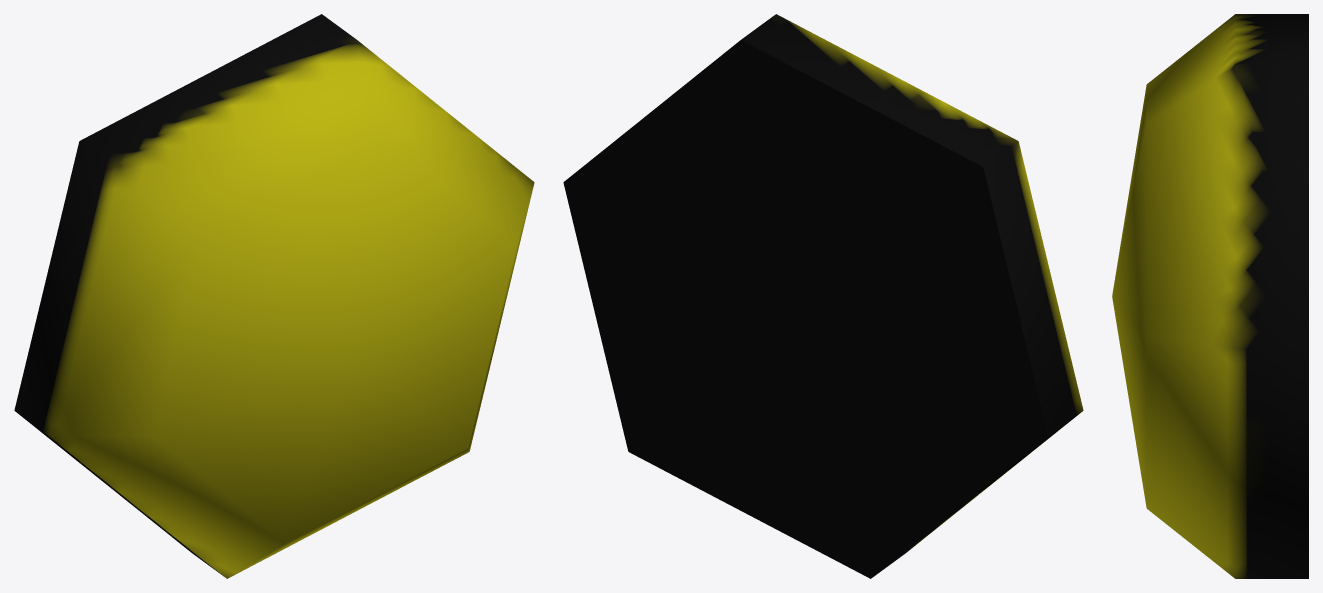
The model's file is MagnetB.FBX.
The picture shows the model from 3 angles, left to right: view 1: azimuth 30°, elevation 25°; view 2: azimuth 150°, elevation 25°; view 3: azimuth 270°, elevation 25°; orthographic projection. The views are drawn at different scales.
Visible parts, largest first — view 1: MagnetB; view 2: MagnetB; view 3: MagnetB.
Boxes of the visible parts, box(x1,y1,x2,y2) form: MagnetB: box(14, 14, 534, 578); MagnetB: box(563, 14, 1083, 578); MagnetB: box(1112, 14, 1308, 578).
Size of the model in its own units: 0.9189 by 0.9189 by 0.3113.
